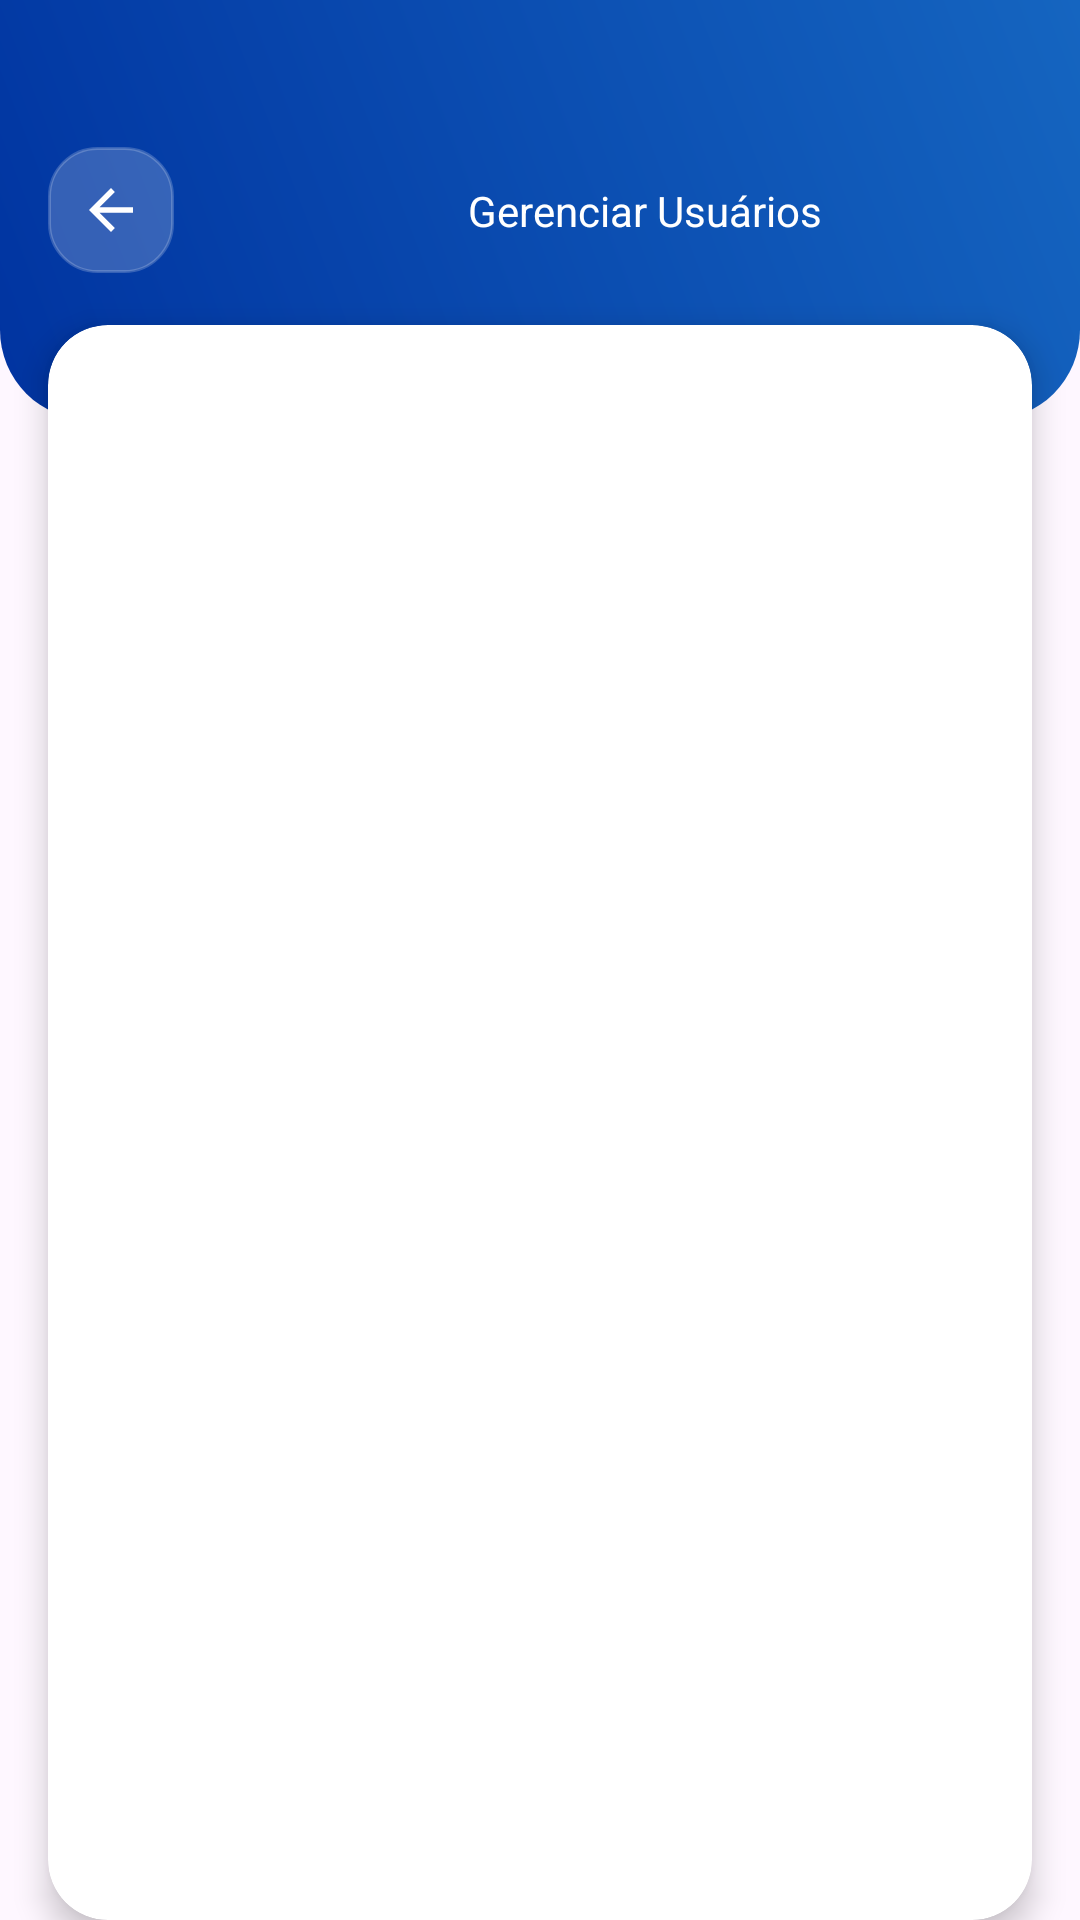

Named icons in this screenshot (1080*1920) and their centers, [x,y]:
arrow back: [111,210]
